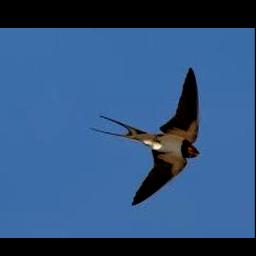Swallow: (91, 67, 202, 206)
